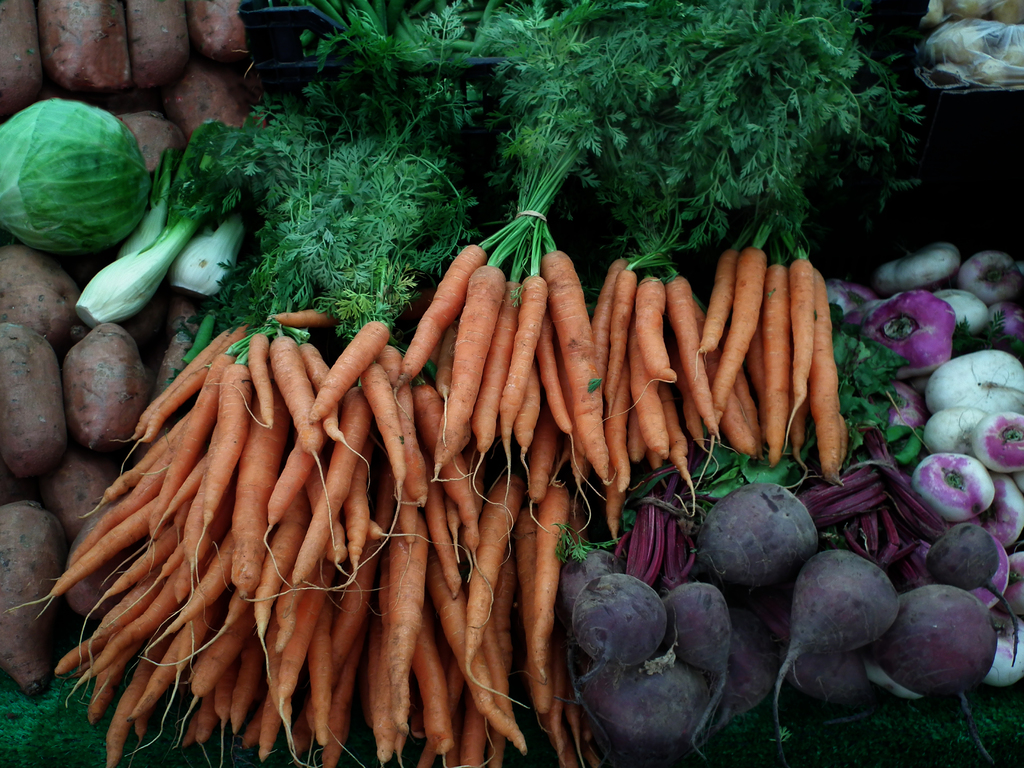Carrot: (4, 240, 848, 767), (538, 207, 618, 487)
